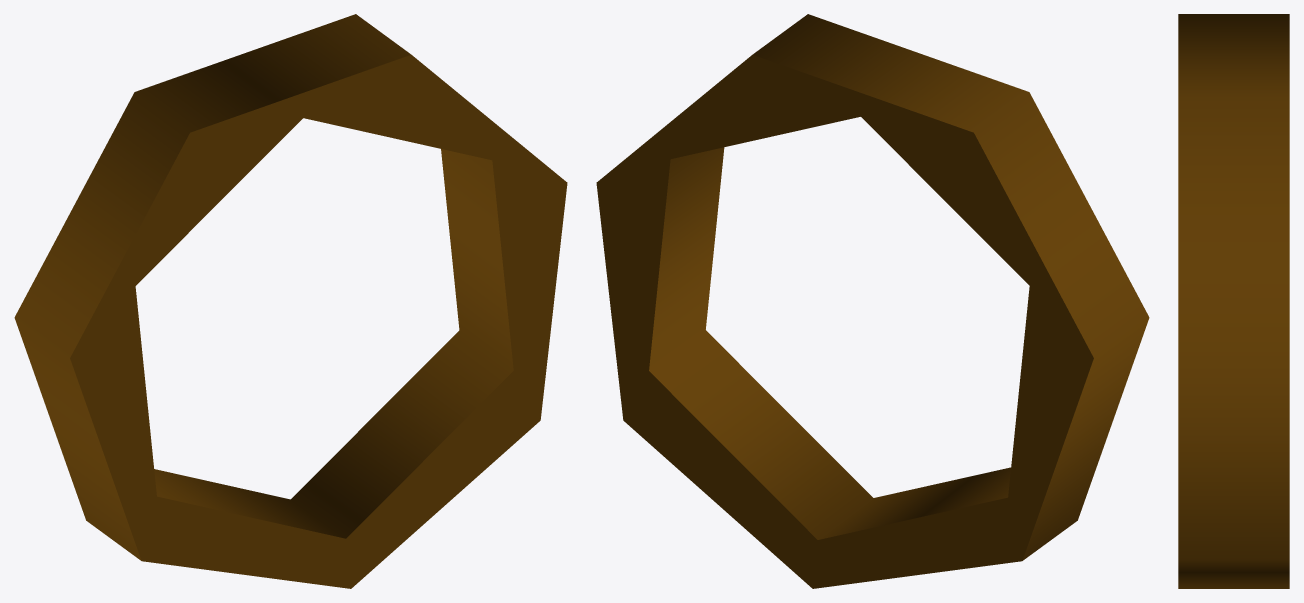
The model's file is Rondelle Came Gdetente.obj.
3 views of the same model, side by side, from view 1: azimuth 30°, elevation 25°; view 2: azimuth 150°, elevation 25°; view 3: azimuth 270°, elevation 25° (orthographic).
Visible parts, largest first — view 1: Face_3, Face_1, Face_4; view 2: Face_2, Face_1, Face_4; view 3: Face_1.
Part boxes in pixels (<box>): Face_3: <box>70,54,567,588</box>; Face_1: <box>14,14,410,560</box>; Face_4: <box>154,149,513,538</box>; Face_2: <box>596,54,1093,588</box>; Face_1: <box>753,14,1149,560</box>; Face_4: <box>649,147,1010,539</box>; Face_1: <box>1178,14,1289,588</box>.
Size of the model in its own units: 0.00776 by 0.00774 by 0.0015.
